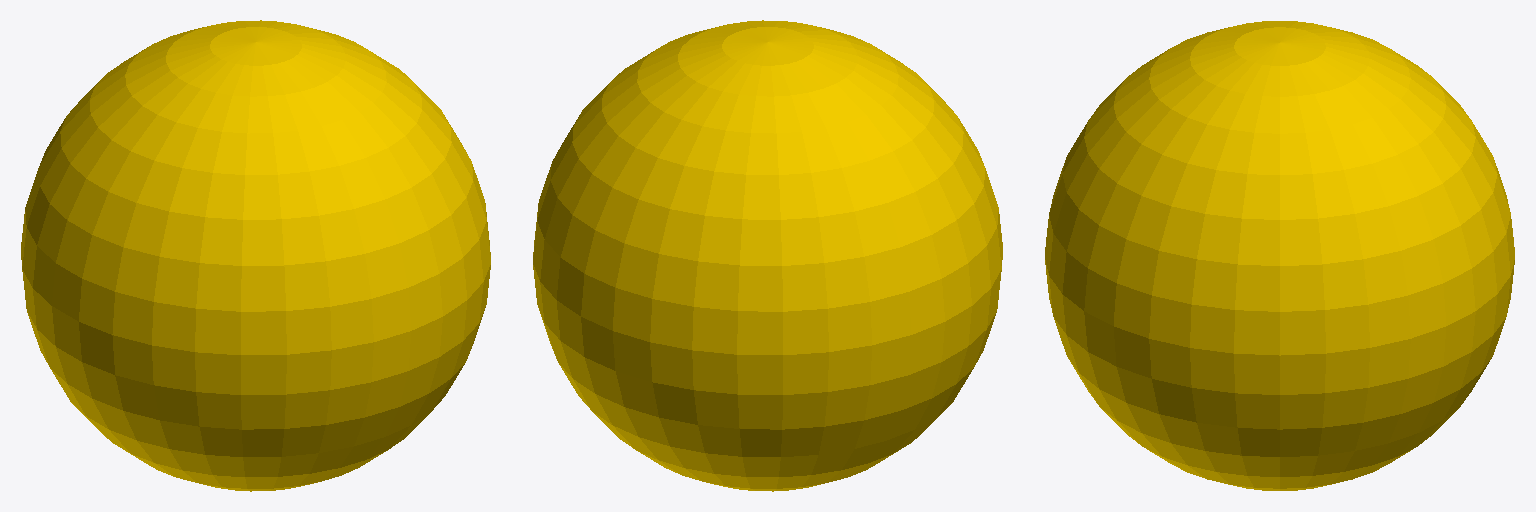
robot.urdf — orb:
<?xml version="0.0" ?>
<robot name="orb">
  <link name="base_link">
    <inertial>
      <mass value="1"/>
      <inertia ixx="1" ixy="0" ixz="0" iyy="1" iyz="0" izz="1"/>
    </inertial>
    <visual>
      <geometry>
        <sphere radius="0.5"/>
      </geometry>
      <material name="orange">
        <color rgba="0.95 0.8 0 1.0"/>
      </material>
      <origin xyz="0 0 0.5"/>
    </visual>
    <collision>
      <geometry>
        <sphere radius="0.5"/>
      </geometry>
      <origin xyz="0 0 0.5"/>
    </collision>
    <contact>
      <lateral_friction value="0.9"/>
      <restitution value="0.4"/>
    </contact>
  </link>
</robot>

--- Facts derived from the render (not from the file) ---
3 views of the same robot in one strip: view 1: azimuth 30°, elevation 25°; view 2: azimuth 150°, elevation 25°; view 3: azimuth 270°, elevation 25° (orthographic).
Robot: orb — 1 links, 0 joints (none); root link base_link; default pose: all joints at 0.
Links seen in each view (by area): view 1: base_link; view 2: base_link; view 3: base_link.
Link boxes in pixels (x1,y1,x2,y2): base_link: [21, 20, 490, 491]; base_link: [533, 20, 1002, 491]; base_link: [1045, 21, 1514, 490].
Bounding box of the posed robot: 1 × 1 × 1 m (x, y, z).
Geometry: primitives only (box / cylinder / sphere), no mesh files.